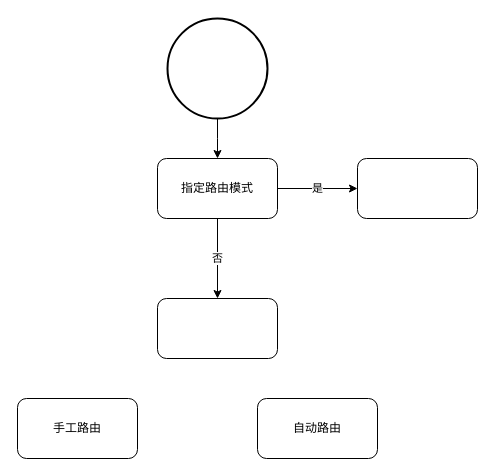
Image size: 495x476. Some labels were removed from this diagram. The shapes that lost their labels are listed below. From the top down, each one's box as (x1, y1, x2, y2) in pixels, then its label:
(166, 17, 268, 119): POS交易发起
(156, 298, 278, 358): 手工和自动路由模式判定
